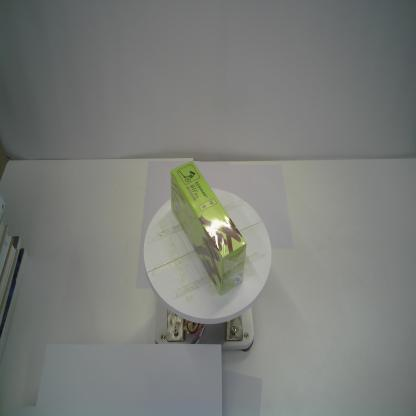Instant Drink: (170, 159, 247, 297)
